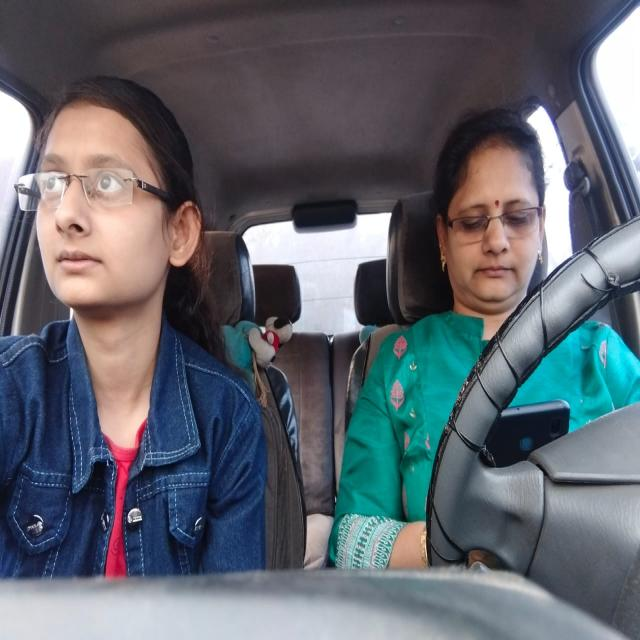mobile: (502, 408, 573, 454)
person: (20, 96, 197, 306), (433, 114, 545, 308)
